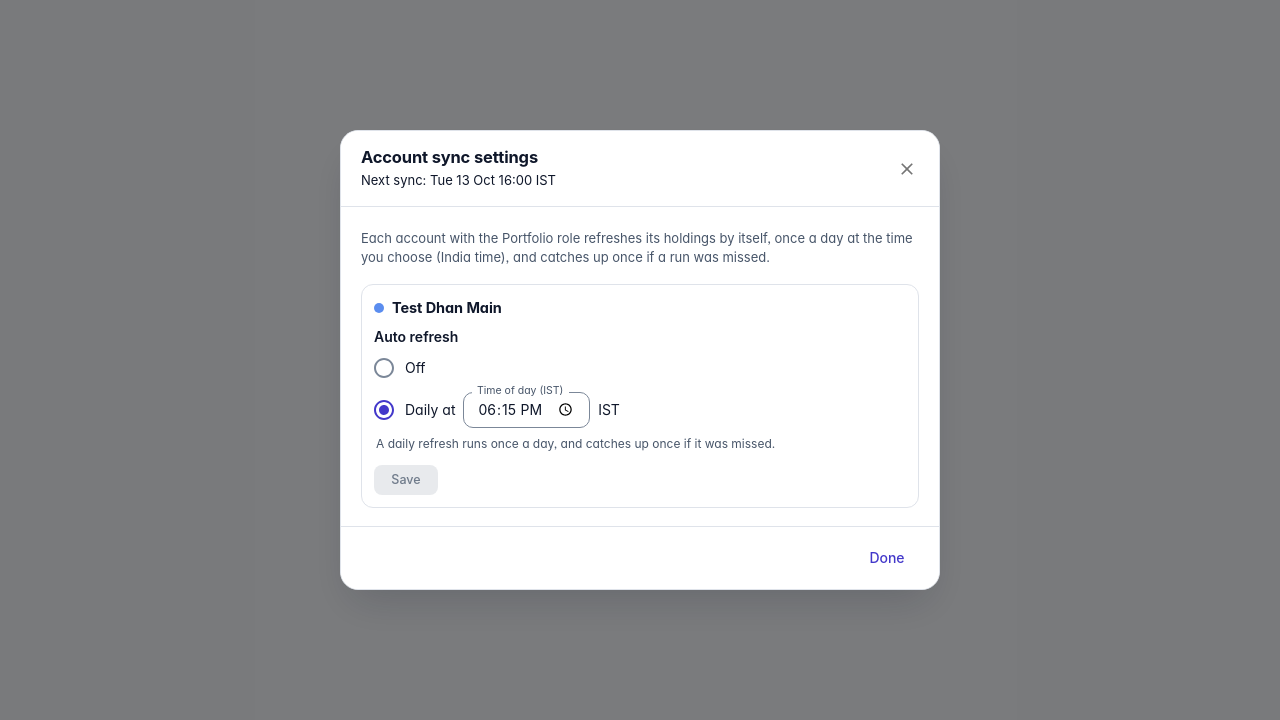
Account sync settings › shows a daily setting and saves switching it off
Click the radio button labelled "Off".
click(399, 368)  # box [372, 356, 426, 380]
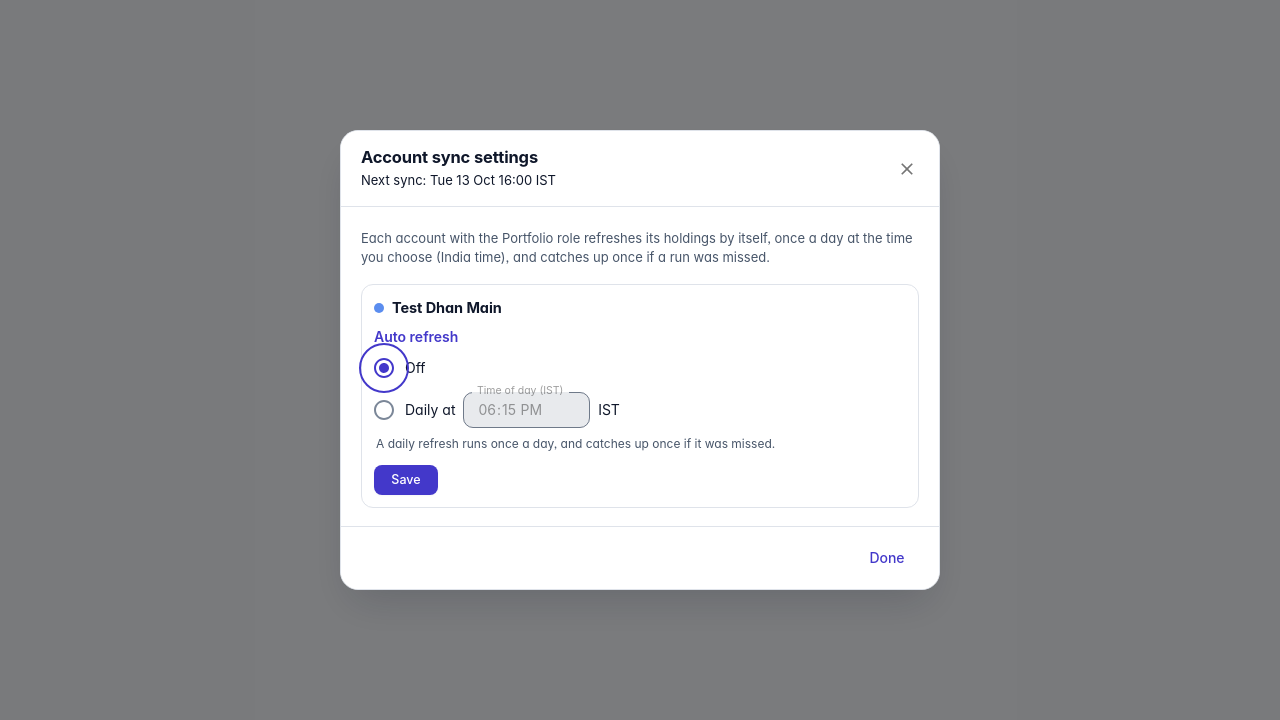
Click the button "Save".
click(406, 480)  # box [374, 465, 438, 495]
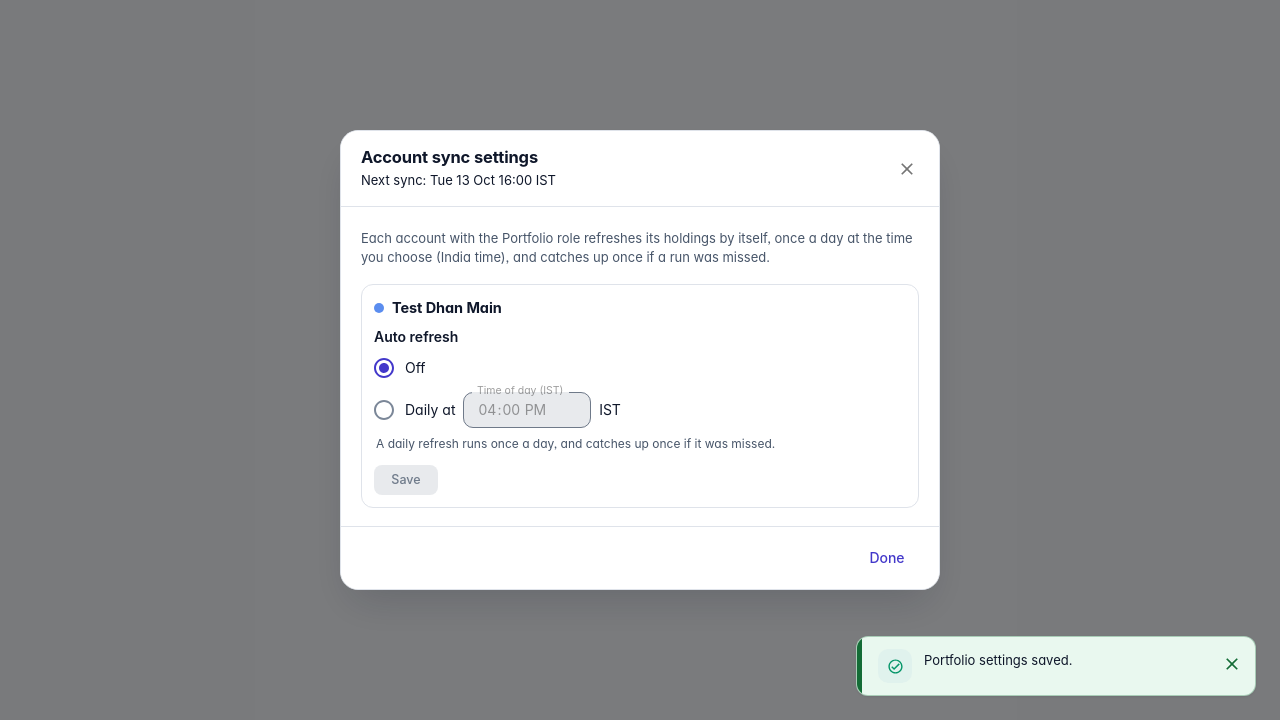
Expected: the text "Portfolio settings saved." is shown, [924, 652, 1072, 668]
